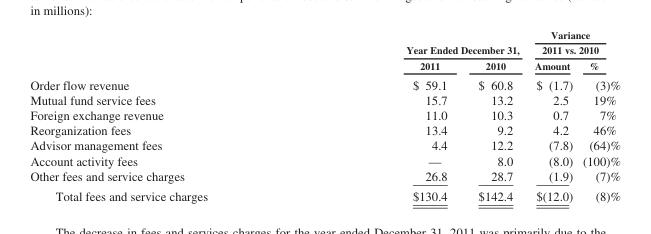table: (29, 28, 619, 202)
table column: (29, 28, 306, 202), (306, 28, 462, 202), (462, 28, 526, 202), (526, 28, 577, 202), (577, 28, 619, 202)
table column header: (29, 28, 619, 74)
table row: (29, 28, 619, 57), (29, 74, 619, 92), (29, 167, 619, 185), (29, 57, 619, 74), (29, 185, 619, 202), (29, 92, 619, 107), (29, 107, 619, 122), (29, 122, 619, 137), (29, 137, 619, 152), (29, 152, 619, 167)
table spanning cell: (306, 28, 526, 57), (526, 28, 619, 57)
